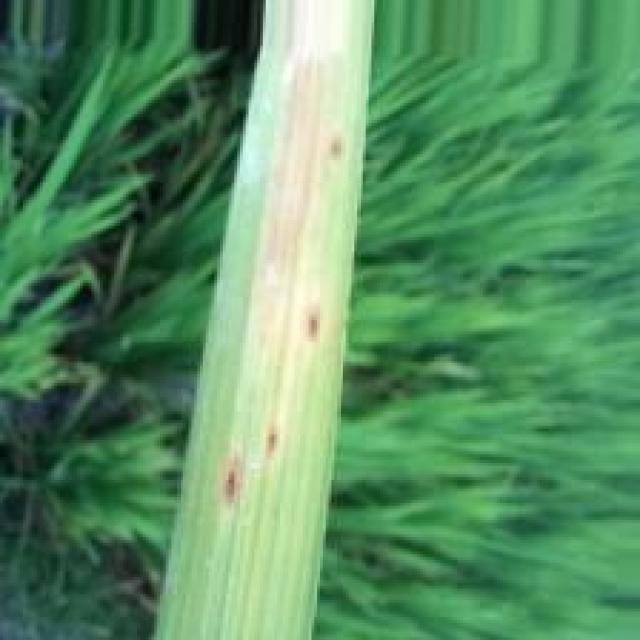Brown_Spot: (219, 448, 250, 517), (260, 408, 282, 470), (304, 299, 324, 347), (330, 132, 346, 162)
